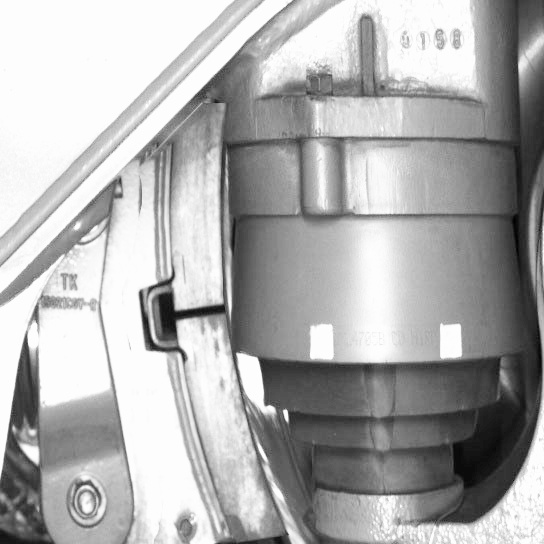ClosedKnifeSwitch: (175, 139, 294, 542)
